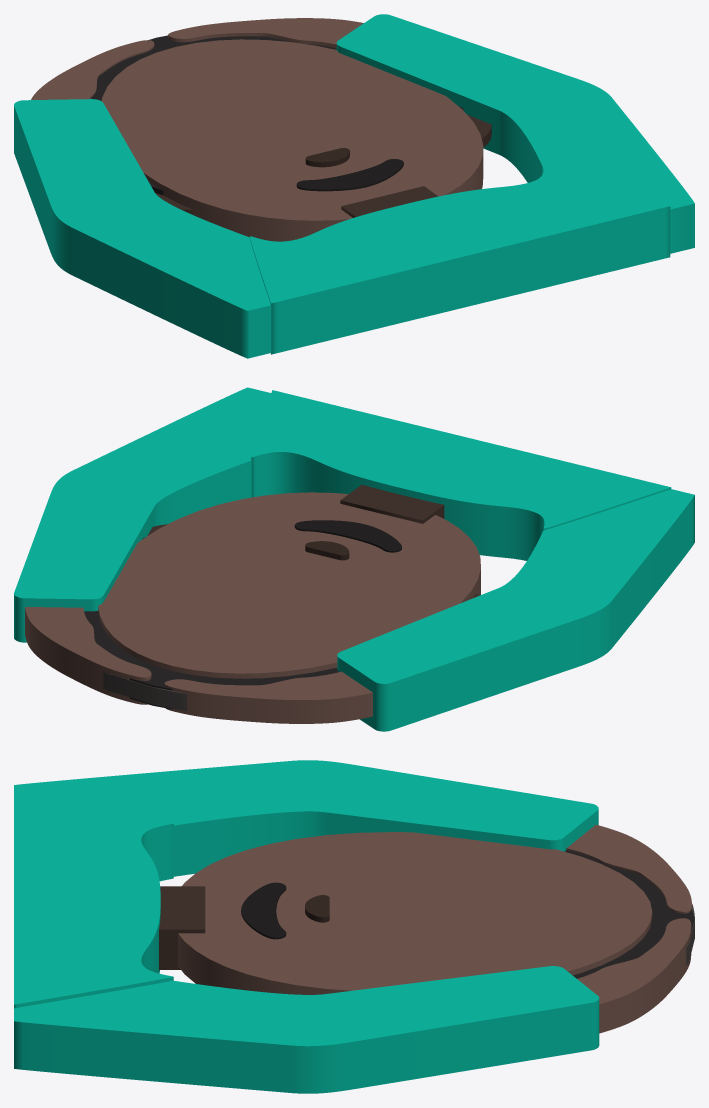
File: emoji_u1f646_1f3ff_200d_2642.glb
3 views of the same model, one above another, from view 1: azimuth 30°, elevation 25°; view 2: azimuth 150°, elevation 25°; view 3: azimuth 270°, elevation 25° (orthographic). The views are drawn at different scales.
Visible parts, largest first — view 1: emoji_u1f646_1f3ff_200d_2642; view 2: emoji_u1f646_1f3ff_200d_2642; view 3: emoji_u1f646_1f3ff_200d_2642.
Boxes of the visible parts, box(x1,y1,x2,y2) form: emoji_u1f646_1f3ff_200d_2642: box(14, 14, 694, 358); emoji_u1f646_1f3ff_200d_2642: box(14, 387, 694, 731); emoji_u1f646_1f3ff_200d_2642: box(14, 760, 694, 1093).
Bounding box in the file's own units: 0.0333 × 0.003 × 0.0337.
